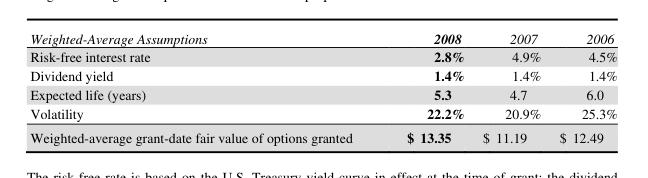table: (29, 29, 616, 146)
table column: (29, 29, 379, 146), (379, 29, 474, 146), (474, 29, 551, 146), (551, 29, 616, 146)
table column header: (29, 29, 616, 47)
table row: (29, 103, 616, 125), (29, 125, 616, 146), (29, 65, 616, 84), (29, 84, 616, 103), (29, 29, 616, 47), (29, 47, 616, 65)
